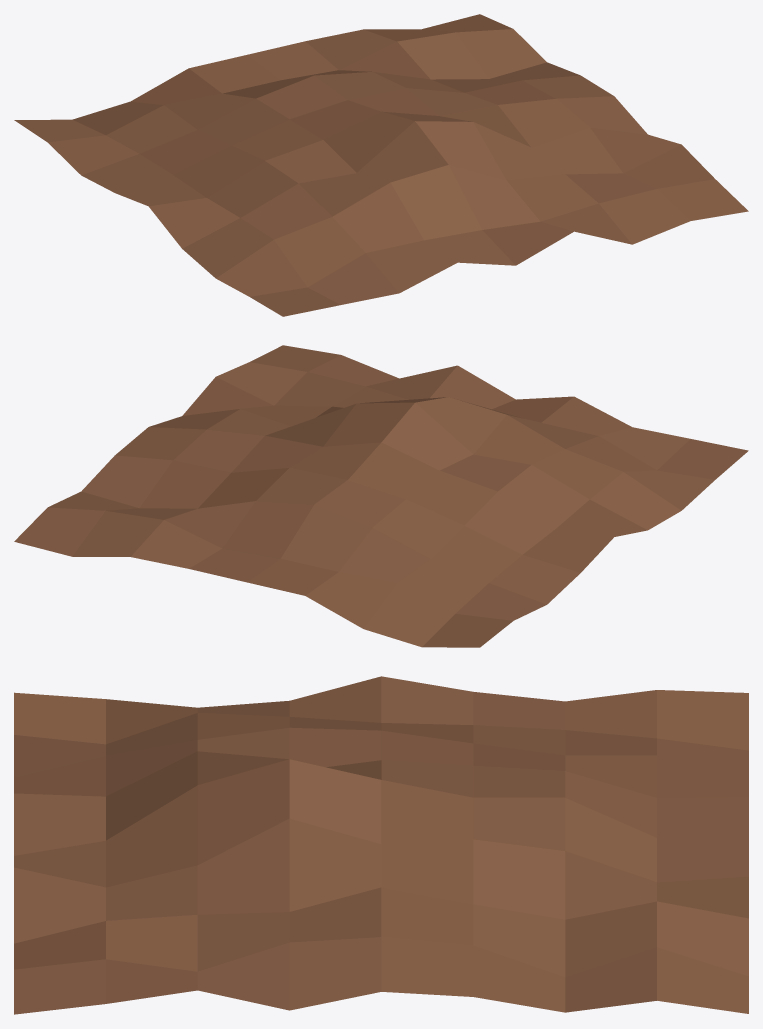
The model's file is MudPile1.fbx.
3 views of the same model, one above another, from view 1: azimuth 30°, elevation 25°; view 2: azimuth 150°, elevation 25°; view 3: azimuth 270°, elevation 25° (orthographic). The views are drawn at different scales.
Visible parts, largest first — view 1: Plane; view 2: Plane; view 3: Plane.
Boxes of the visible parts, x1=… form: Plane: x1=14, y1=14, x2=748, y2=316; Plane: x1=14, y1=345, x2=748, y2=647; Plane: x1=14, y1=676, x2=748, y2=1014.
Size of the model in its own units: 672 by 109 by 672.
